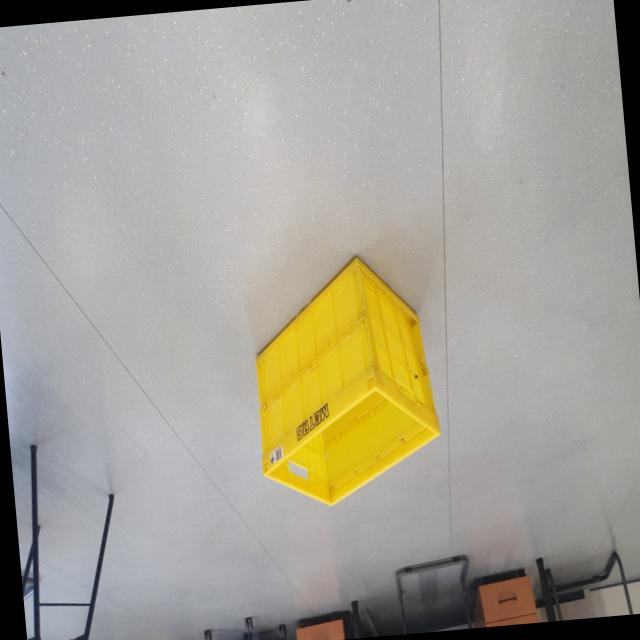box: (232, 248, 453, 522)
